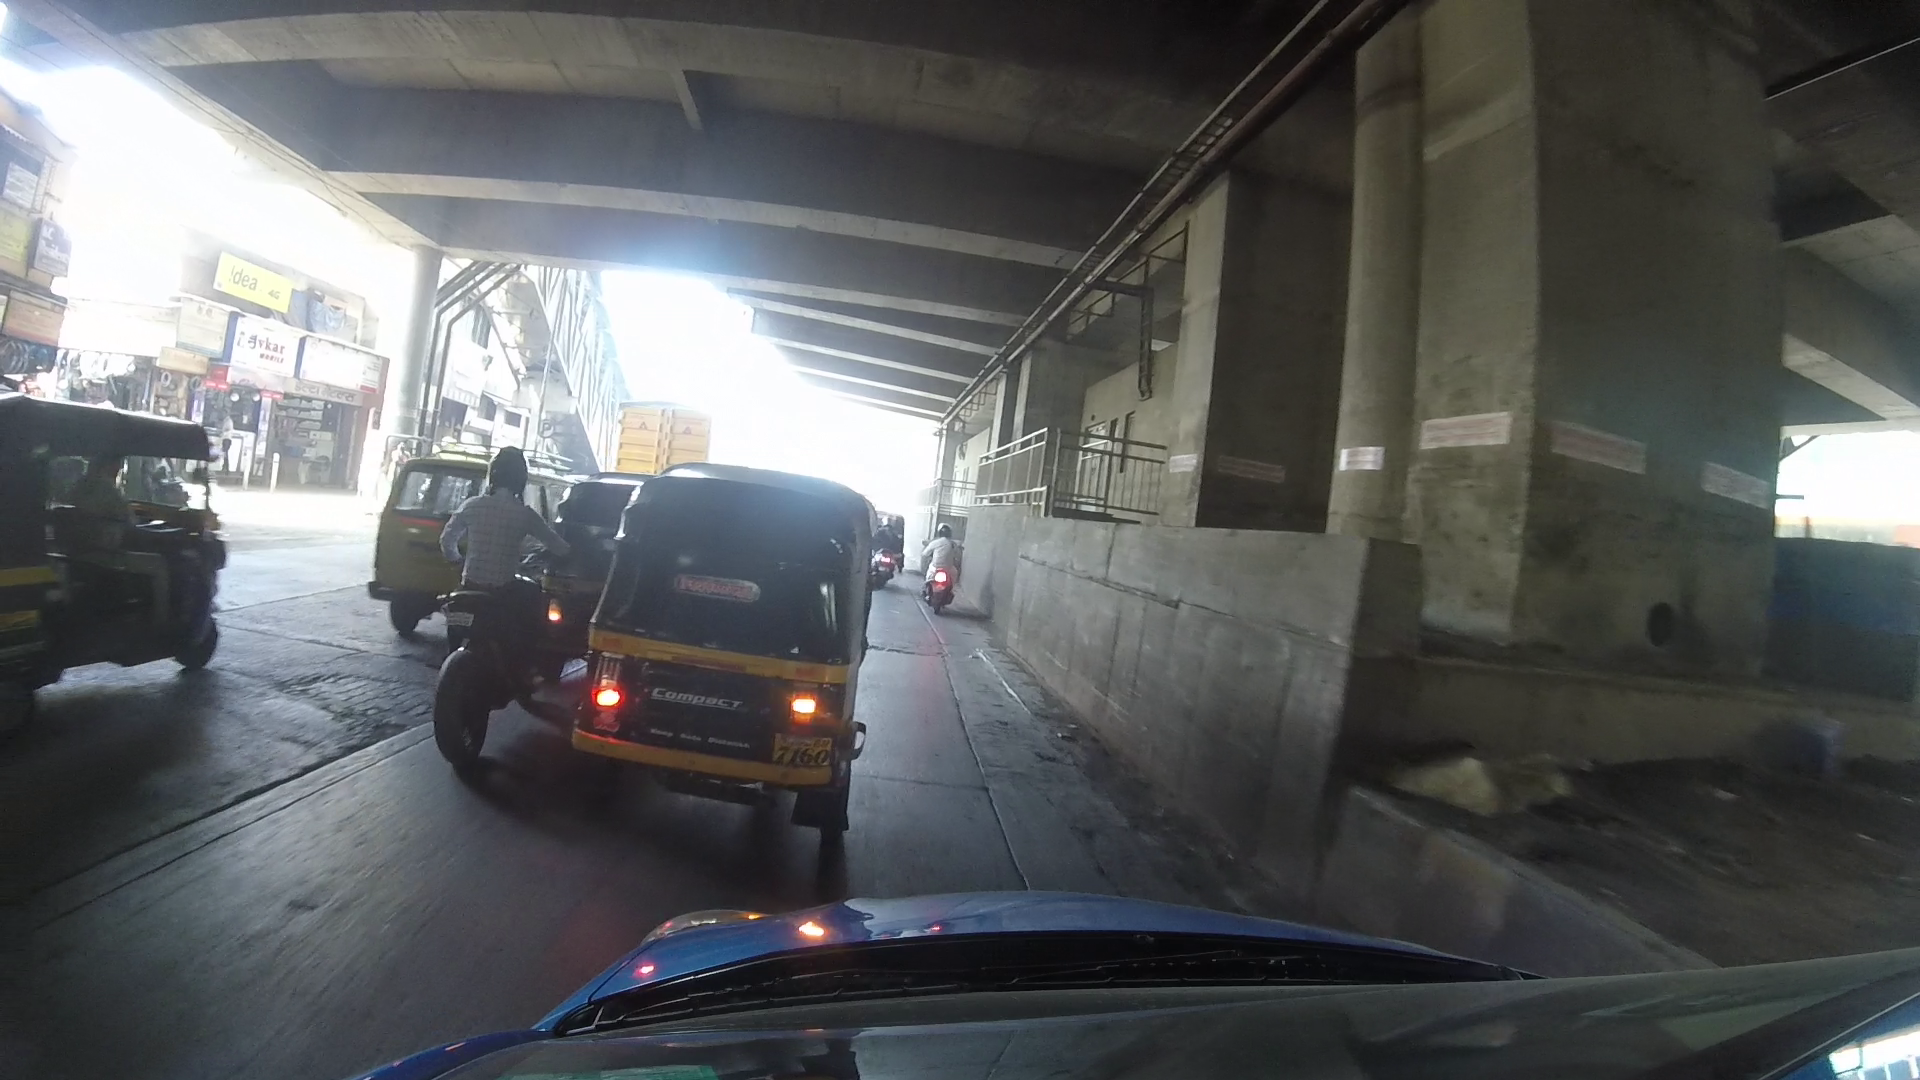bike/scooter: (434, 451, 560, 764)
rickshaw: (582, 450, 887, 847), (11, 396, 219, 676)
